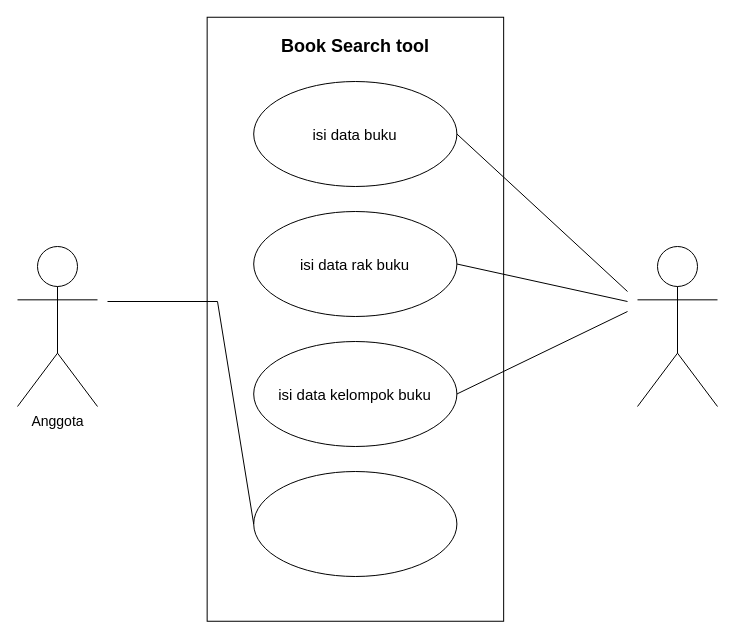
Some shapes in this 735 by 639 pixel diagram are drawn without their labels. Here are the shapes that lost their labels. From the top down, the centre of each, then its label:
point (677, 326): Pustakawan
point (355, 523): pencarian buku
